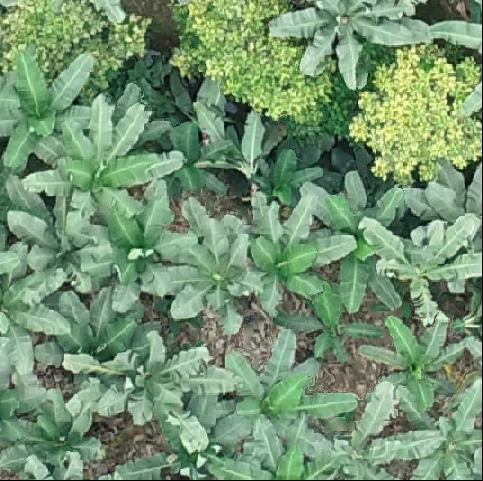Banana-plant: (214, 325, 363, 481), (20, 97, 184, 236), (64, 332, 237, 452), (137, 198, 283, 336), (266, 378, 441, 481), (98, 393, 280, 481), (296, 172, 406, 316), (271, 0, 438, 93), (359, 207, 483, 322), (34, 285, 164, 383), (0, 49, 101, 174), (358, 310, 474, 416), (0, 238, 72, 381), (0, 385, 107, 481), (391, 377, 483, 481), (270, 280, 376, 366), (190, 95, 295, 178), (403, 156, 483, 234), (150, 123, 232, 199), (244, 146, 323, 209)
